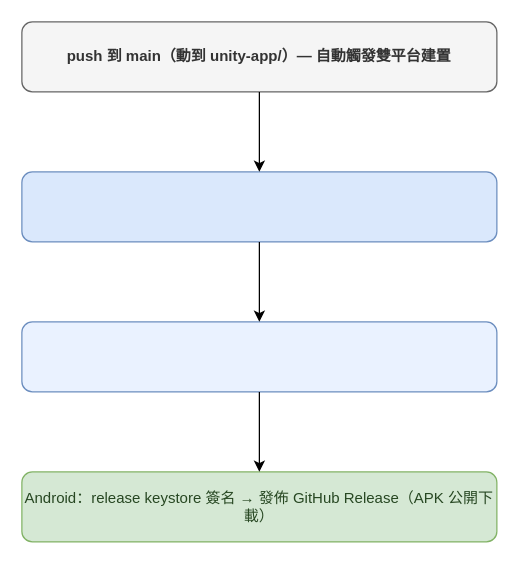
Some shapes in this 519 by 564 pixel diagram are drawn without their labels. The shapes that lost their labels are listed below. From the top down, each one's centre as x and y in pixels, then its label:
the point at 259,206: Ubuntu Runner：Unity 專案匯出（iOS → Xcode 工程；Android → APK）
the point at 259,356: iOS：macOS 簽名 + Archive → 上傳 TestFlight
